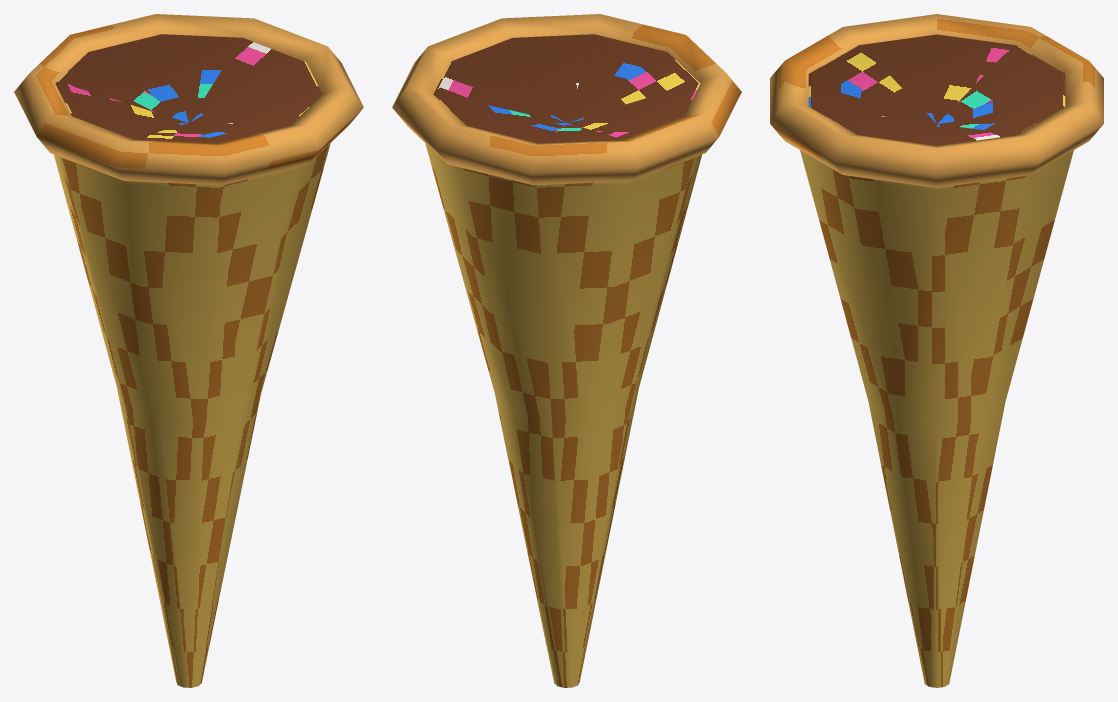
The model's file is Waffle Cone.fbx.
3 renders of one model, left to right at view 1: azimuth 30°, elevation 25°; view 2: azimuth 150°, elevation 25°; view 3: azimuth 270°, elevation 25°, orthographic.
Visible parts, largest first — view 1: Waffle Cone cone, Waffle Cone rolled rim; view 2: Waffle Cone cone, Waffle Cone rolled rim; view 3: Waffle Cone cone, Waffle Cone rolled rim.
Boxes of the visible parts, x1=… form: Waffle Cone cone: x1=54, y1=34, x2=330, y2=687; Waffle Cone rolled rim: x1=14, y1=14, x2=363, y2=185; Waffle Cone cone: x1=425, y1=34, x2=701, y2=687; Waffle Cone rolled rim: x1=392, y1=14, x2=741, y2=185; Waffle Cone cone: x1=800, y1=34, x2=1073, y2=687; Waffle Cone rolled rim: x1=770, y1=14, x2=1103, y2=187.
Bounding box in the file's own units: 0.1094 × 0.2067 × 0.104.
2 materials, 2 textured.
